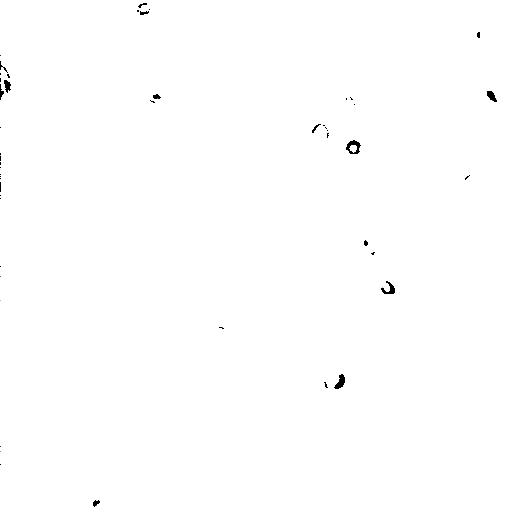micro-algae: (353, 245, 391, 274), (321, 364, 347, 393), (363, 221, 388, 251), (307, 119, 332, 147), (79, 489, 109, 512), (0, 60, 15, 101), (471, 25, 495, 49), (95, 108, 119, 131), (460, 173, 485, 195), (343, 136, 363, 157), (483, 85, 502, 107), (378, 278, 397, 298), (339, 93, 357, 113), (135, 0, 151, 17), (0, 77, 9, 95)
